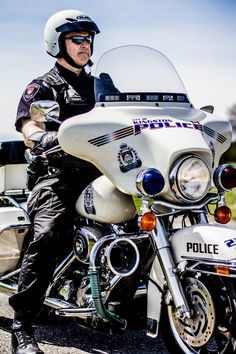helmet: (38, 6, 137, 192)
